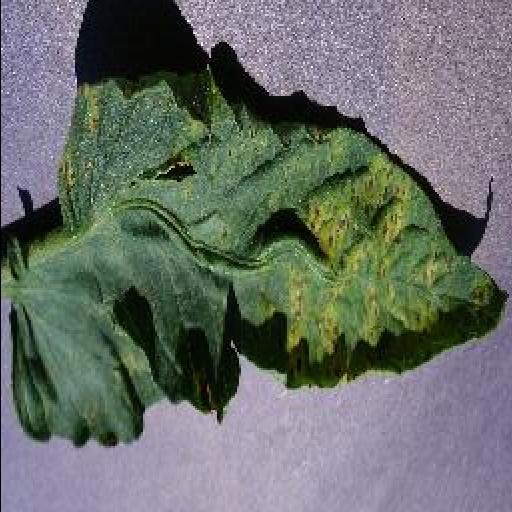disease_tomato: (0, 79, 508, 448)
